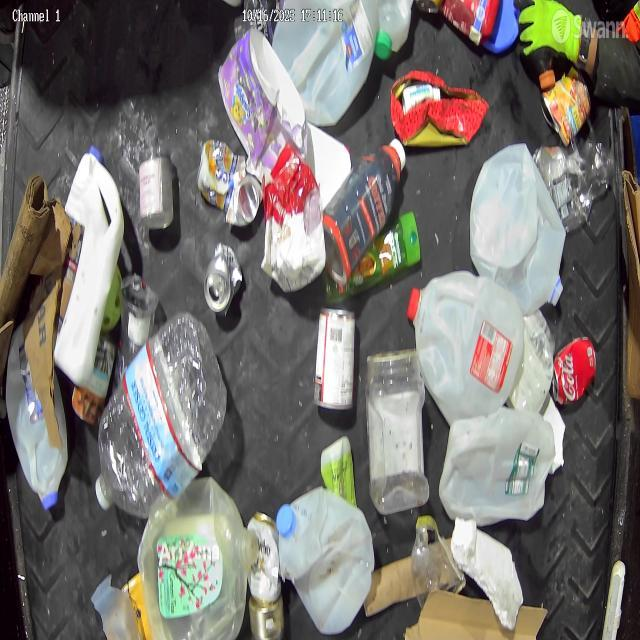can: (200, 138, 262, 228), (552, 336, 597, 404), (205, 243, 241, 316)
milk_jug: (411, 271, 525, 413), (474, 145, 567, 305), (280, 485, 376, 640), (437, 416, 554, 528)
